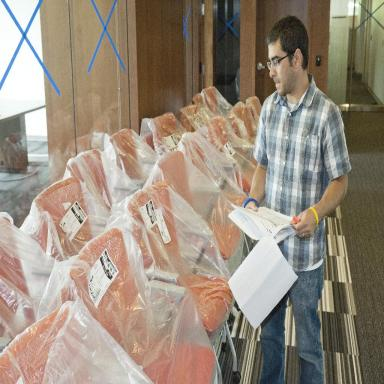plasticbag: (0, 110, 244, 383)
